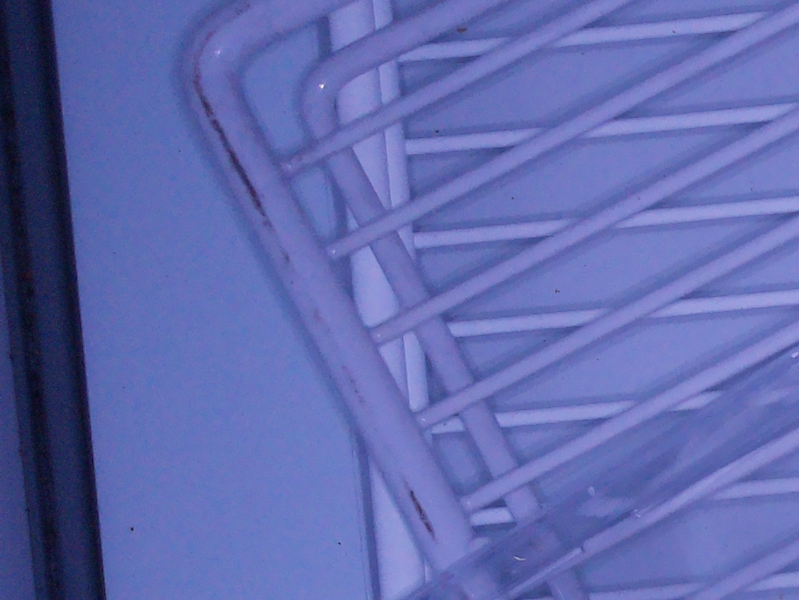plate: (429, 353, 799, 600)
